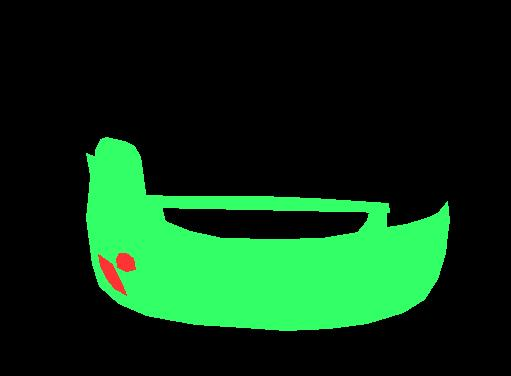Broken part: (86, 153, 449, 330), (95, 137, 151, 221), (142, 195, 389, 212)
Missing part: (98, 254, 126, 295), (116, 253, 135, 271)
Scratch: (428, 221, 448, 238), (110, 240, 117, 249), (106, 247, 108, 261), (427, 245, 431, 249)
